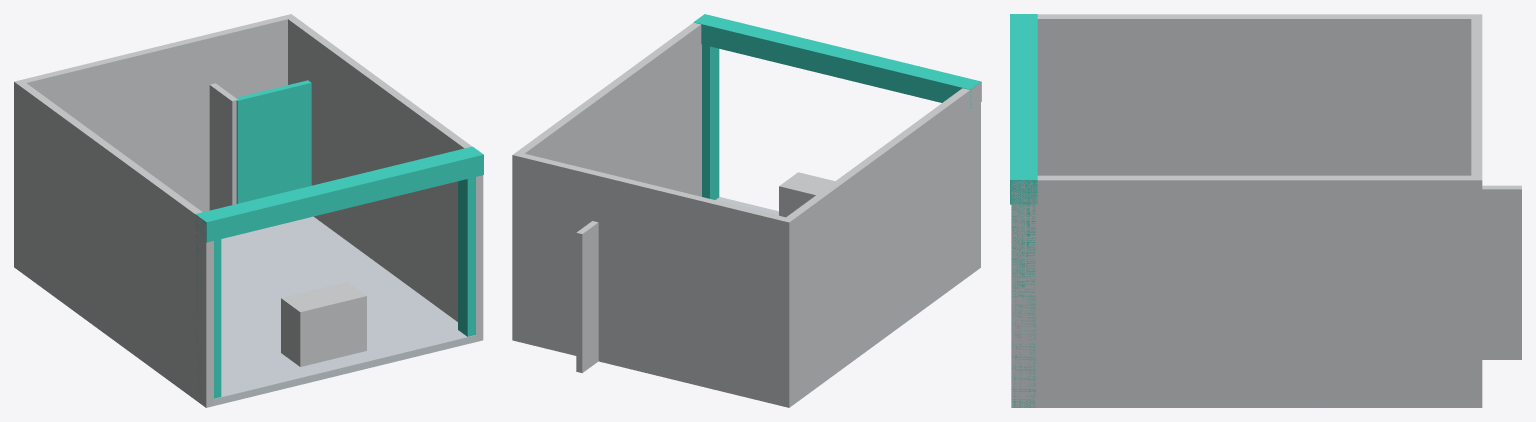
3 renders of one model, left to right at view 1: azimuth 30°, elevation 25°; view 2: azimuth 150°, elevation 25°; view 3: azimuth 270°, elevation 25°, orthographic. The views are drawn at different scales.
Parts seen in each view (by area): view 1: Exhibition Booth Concept; view 2: Exhibition Booth Concept; view 3: Exhibition Booth Concept.
Boxes of the visible parts, box(x1,y1,x2,y2) form: Exhibition Booth Concept: box(14, 14, 483, 407); Exhibition Booth Concept: box(512, 14, 981, 407); Exhibition Booth Concept: box(1010, 14, 1521, 407).
Size of the model in its own units: 5 by 3.2 by 6.52.
